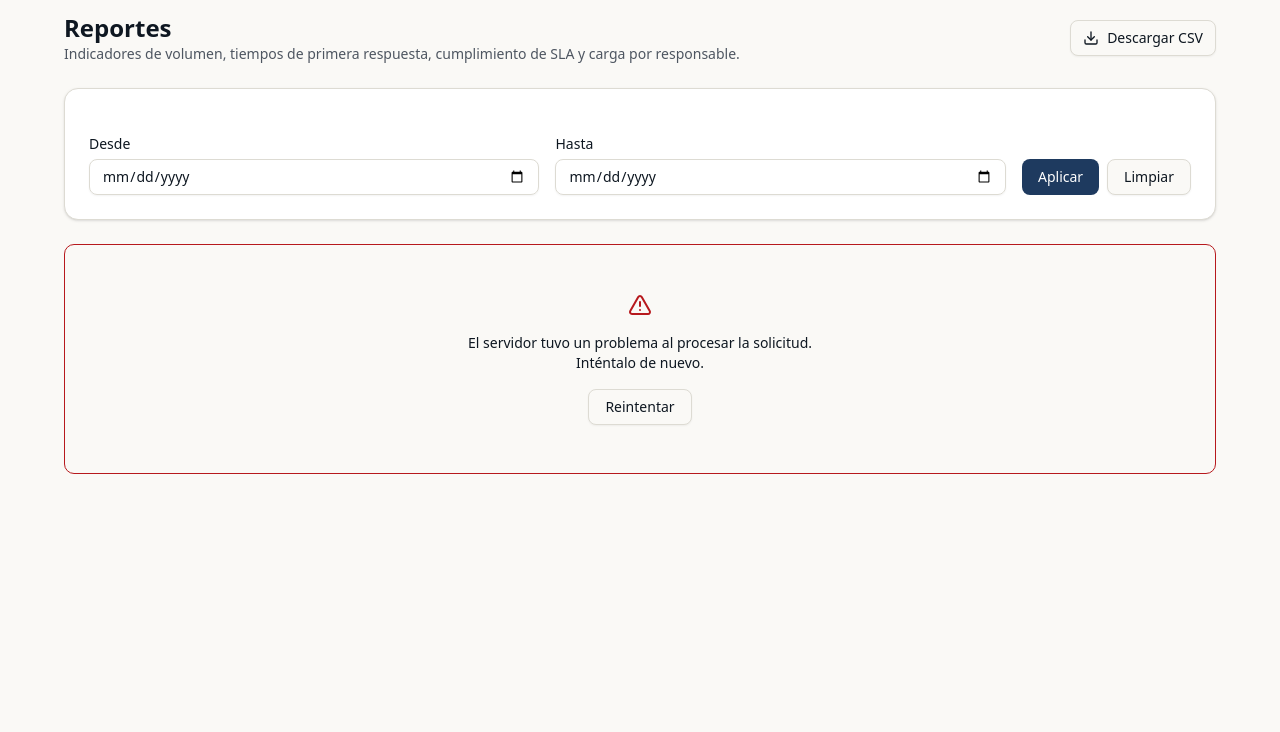
Test case: ReportesPage › muestra EstadoError y permite reintentar
expect the message is shown: met, box [64,244,1216,474]
Click the button "Reintentar" at (640, 407), box [588,389,692,425]
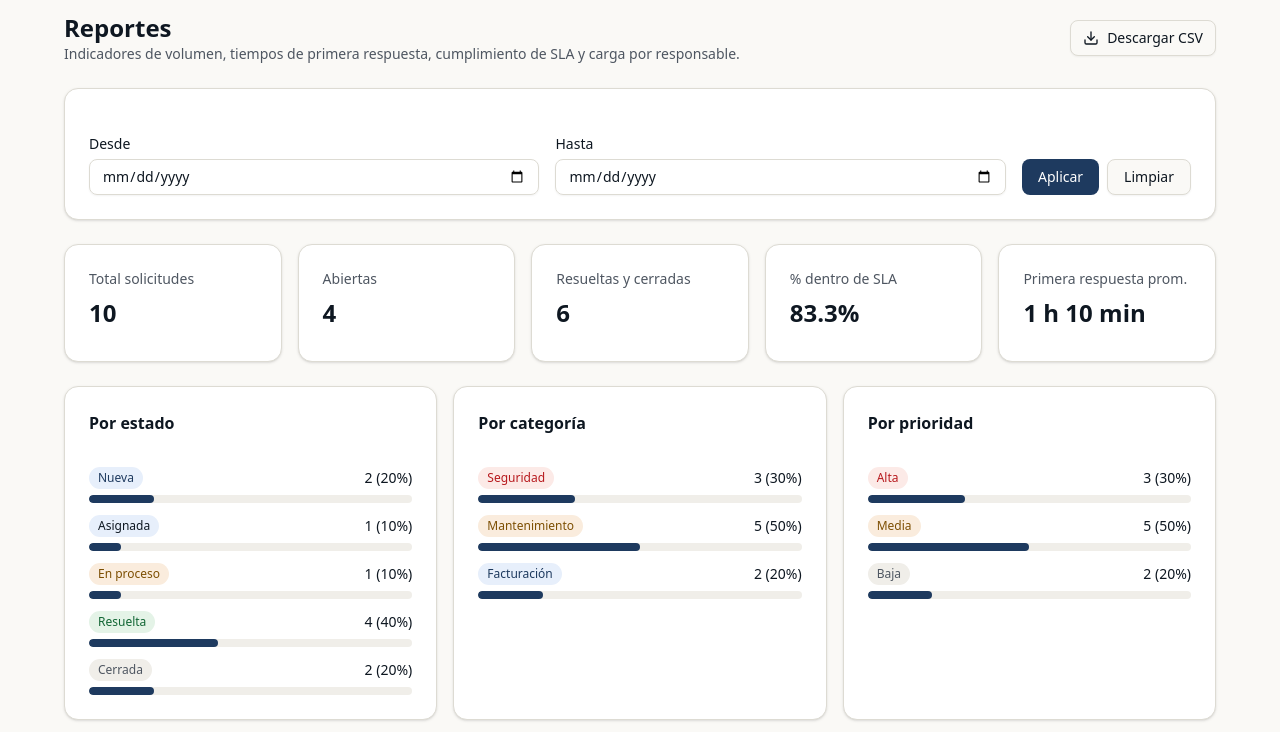
expect the text "83.3%" is shown: met, box [790,296,860,329]
